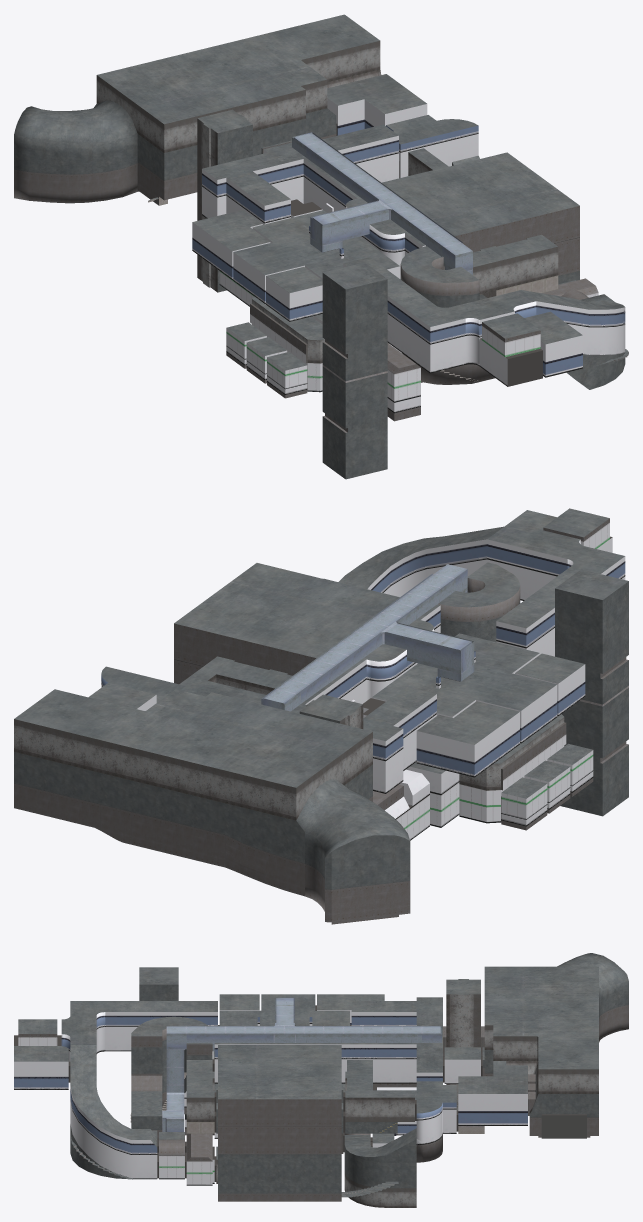
The model's file is Facility-7 Genetics.fbx.
3 views of the same model, one above another, from view 1: azimuth 30°, elevation 25°; view 2: azimuth 150°, elevation 25°; view 3: azimuth 270°, elevation 25° (orthographic). The views are drawn at different scales.
Parts seen in each view (by area): view 1: Floor_A, Floor_B, Vent_CT_A; view 2: Floor_A, Floor_B, Vent_CT_A; view 3: Floor_A, Floor_B, Vent_CT_A, Stairs_Cargo_To_B.
Boxes of the visible parts, x1,y1,x2,y2 form: Floor_A: (14,14,582,386); Floor_B: (197,155,625,479); Vent_CT_A: (292,132,472,274); Floor_A: (14,508,628,924); Floor_B: (338,526,628,840); Vent_CT_A: (261,564,474,711); Floor_A: (14,953,628,1162); Floor_B: (70,1045,458,1207); Vent_CT_A: (162,997,441,1131); Stairs_Cargo_To_B: (341,1181,398,1197).
Size of the model in its own units: 4220 by 2170 by 7085.
